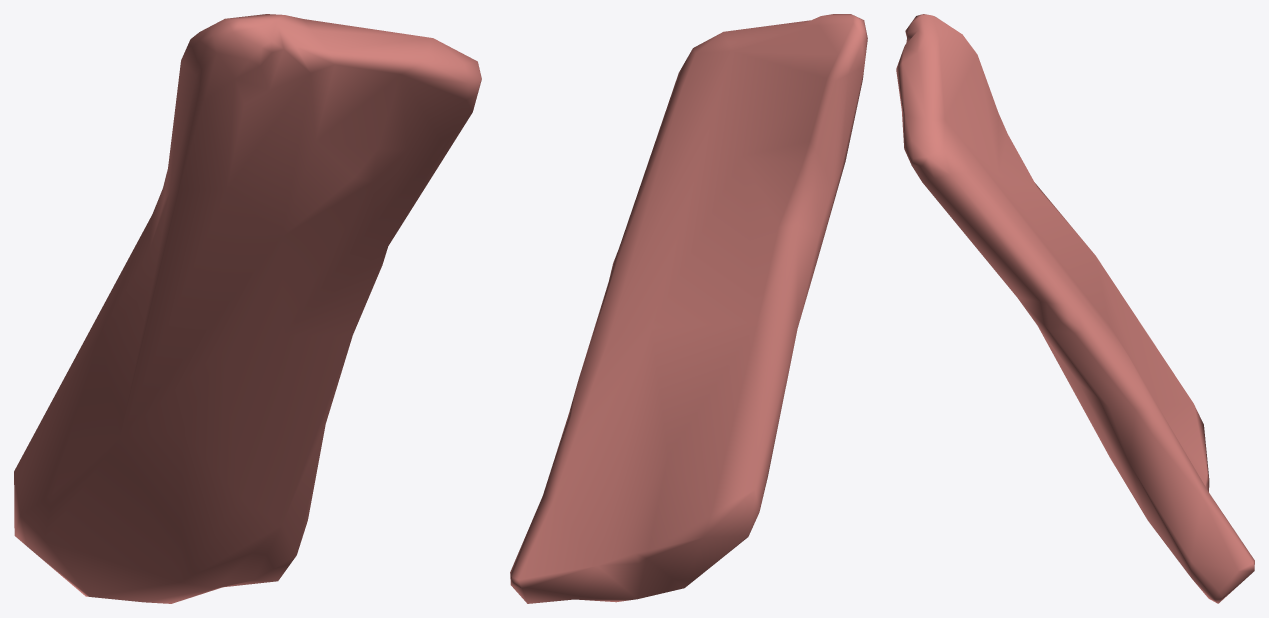
File: fma81548_mm1324.glb
3 views of the same model, side by side, from view 1: azimuth 30°, elevation 25°; view 2: azimuth 150°, elevation 25°; view 3: azimuth 270°, elevation 25° (orthographic). The views are drawn at different scales.
Parts seen in each view (by area): view 1: FMA81548_MM1324; view 2: FMA81548_MM1324; view 3: FMA81548_MM1324.
Boxes of the visible parts, x1,y1,x2,y2 form: FMA81548_MM1324: (14, 14, 481, 603); FMA81548_MM1324: (510, 14, 867, 603); FMA81548_MM1324: (896, 14, 1254, 603).
Bounding box in the file's own units: 0.00578 × 0.0139 × 0.00891.
